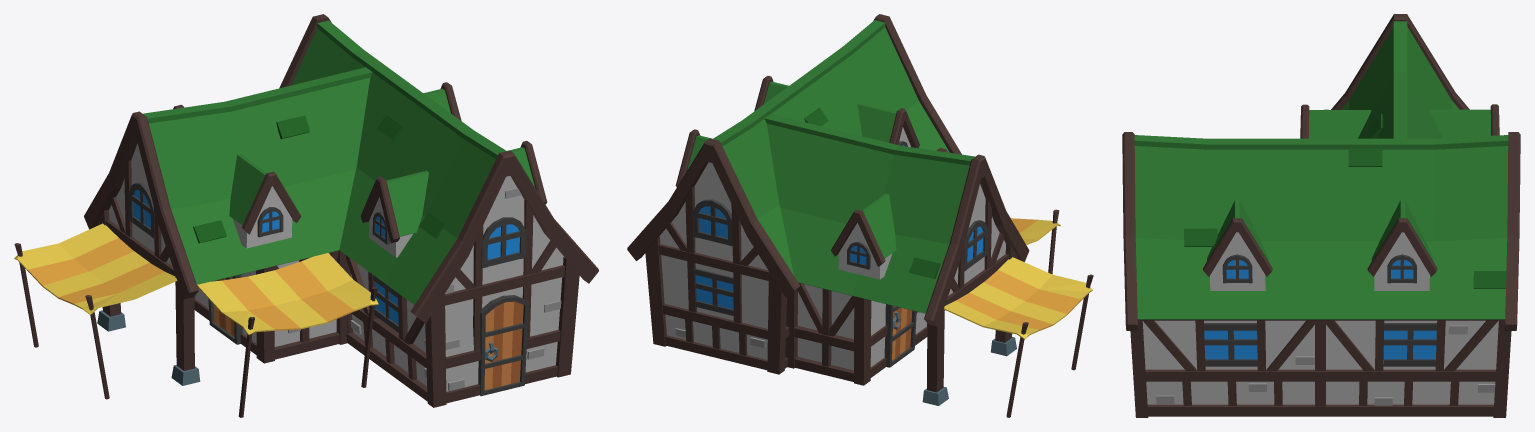
The model's file is House_3-3.fbx.
The picture shows the model from 3 angles, left to right: view 1: azimuth 30°, elevation 25°; view 2: azimuth 150°, elevation 25°; view 3: azimuth 270°, elevation 25°; orthographic projection. The views are drawn at different scales.
Parts seen in each view (by area): view 1: Town_BG_Bd_Store_A; view 2: Town_BG_Bd_Store_A; view 3: Town_BG_Bd_Store_A.
Part boxes in pixels (x1,y1,x2,y2): Town_BG_Bd_Store_A: [14, 14, 598, 417]; Town_BG_Bd_Store_A: [627, 14, 1093, 417]; Town_BG_Bd_Store_A: [1122, 14, 1520, 417].
Bounding box in the file's own units: 961 × 531 × 768.
